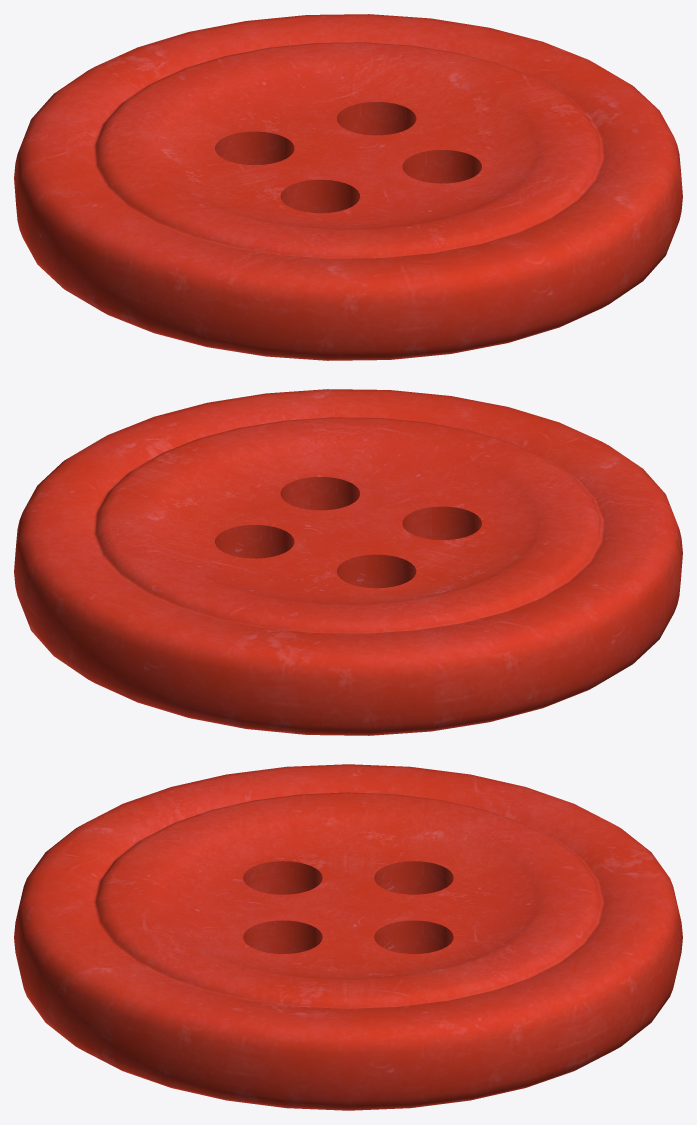
Rendered from button.glb.
The picture shows the model from 3 angles, top to bottom: view 1: azimuth 30°, elevation 25°; view 2: azimuth 150°, elevation 25°; view 3: azimuth 270°, elevation 25°; orthographic projection.
Parts seen in each view (by area): view 1: Object_2; view 2: Object_2; view 3: Object_2.
Part boxes in pixels (bbox=[...]): Object_2: bbox=[14, 14, 682, 360]; Object_2: bbox=[14, 389, 682, 735]; Object_2: bbox=[14, 764, 682, 1110].
Bounding box in the file's own units: 2.02 × 0.2837 × 2.02.
Materials: 1 (1 with a texture image).
